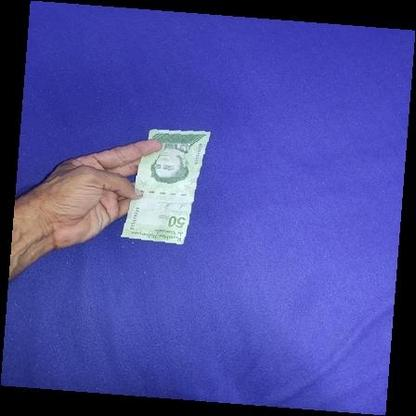fifty-front-vef: (121, 128, 212, 244)
